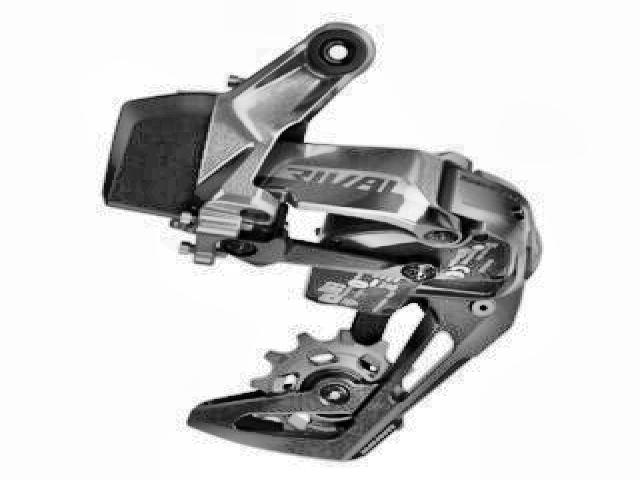rear_derailleur: (97, 19, 545, 466)
